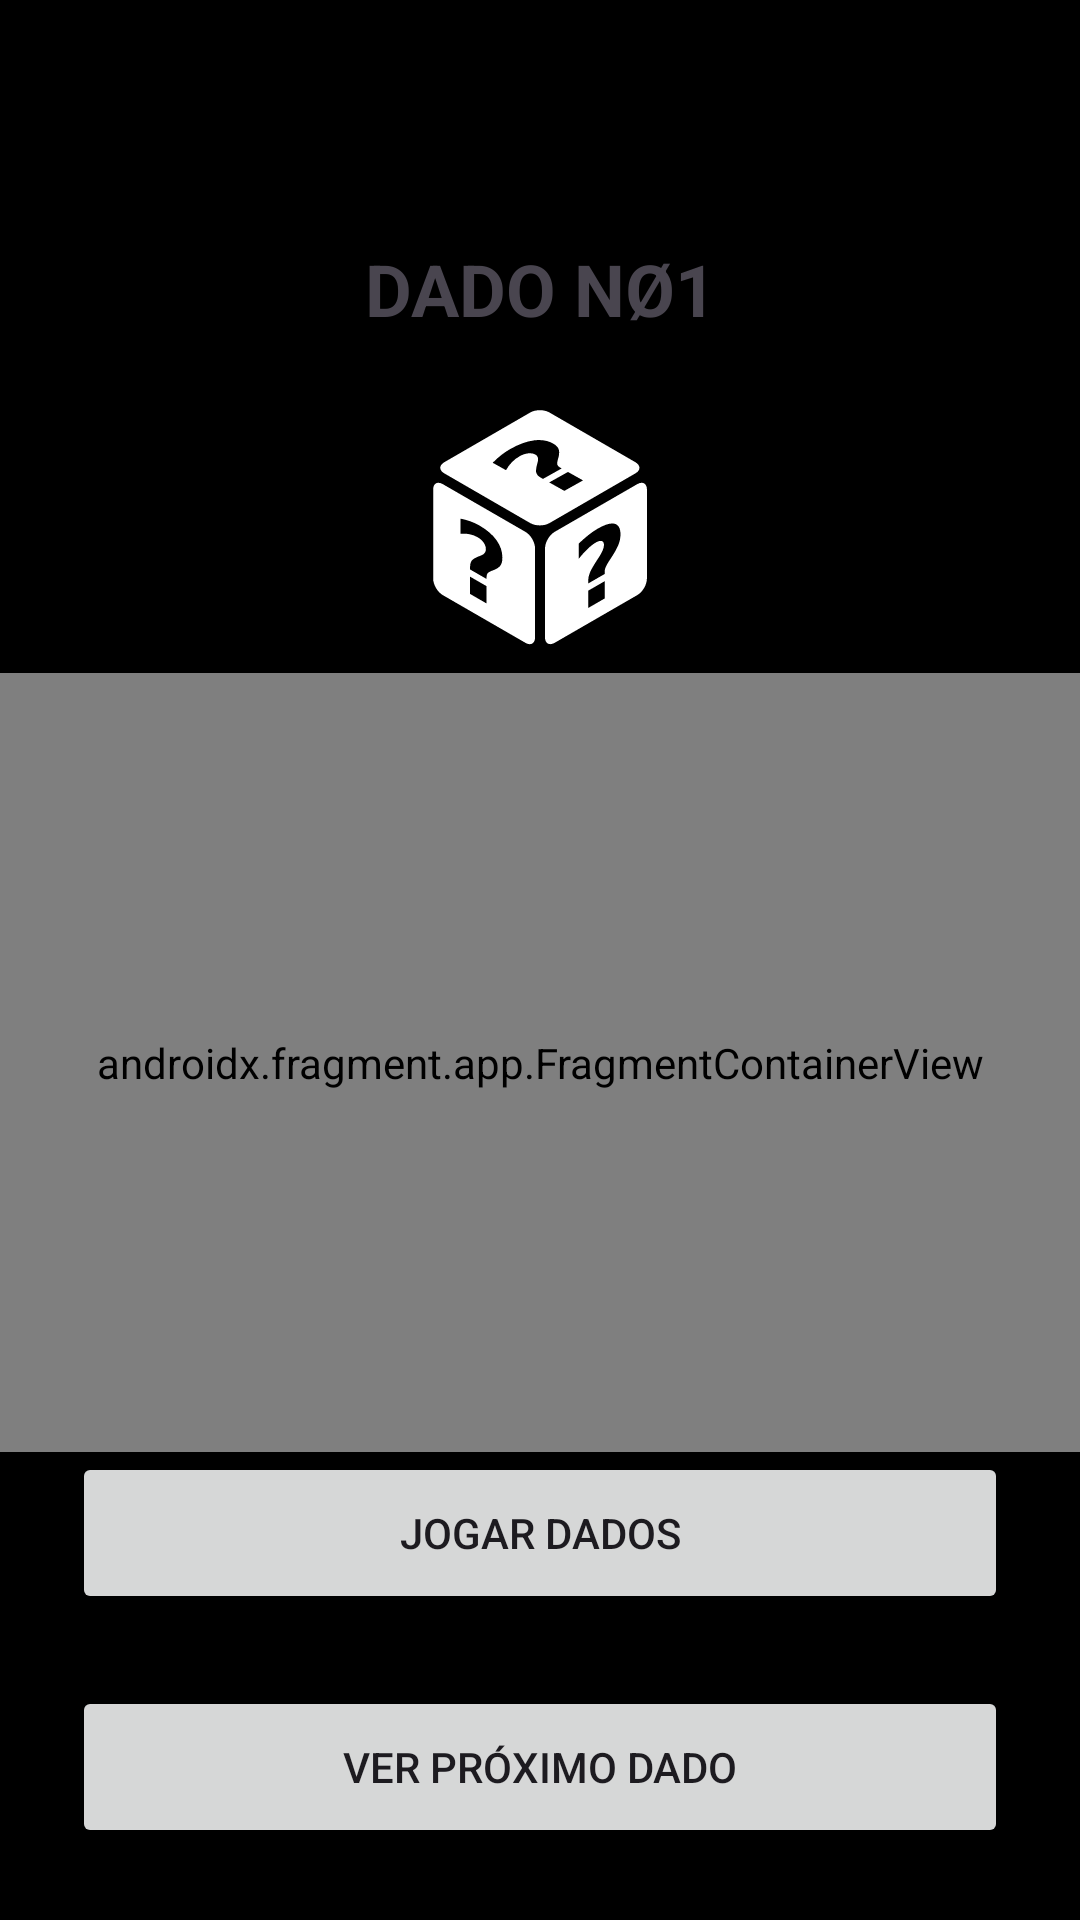

Where icons sit on this 1080×1920 app screen, as (left=x1, top=y1, right=x2, bottom=y2):
Ícone de um dado: (left=433, top=410, right=647, bottom=645)
